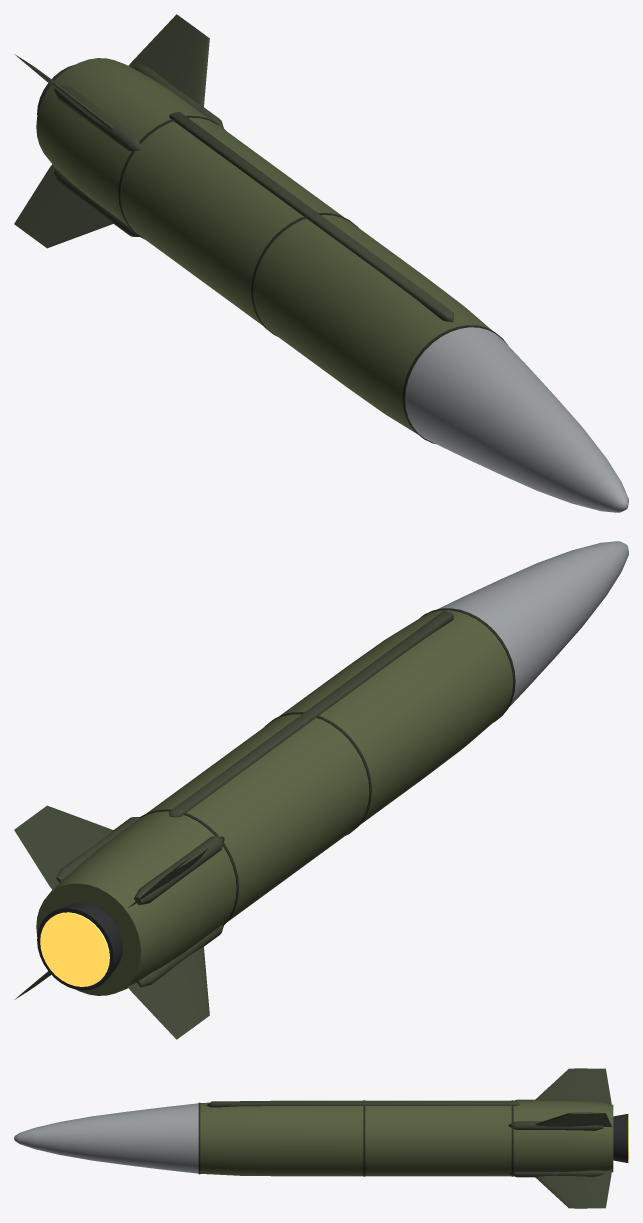
Rendered from iskander.glb.
3 renders of one model, top to bottom at view 1: azimuth 30°, elevation 25°; view 2: azimuth 150°, elevation 25°; view 3: azimuth 270°, elevation 25°, orthographic. The views are drawn at different scales.
Parts seen in each view (by area): view 1: iskander; view 2: iskander; view 3: iskander.
Part boxes in pixels (box(x1,y1,x2,y2)): iskander: box(14, 14, 628, 512); iskander: box(14, 541, 628, 1039); iskander: box(14, 1068, 628, 1208).
Bounding box in the file's own units: 1.29 × 1.29 × 7.46.
